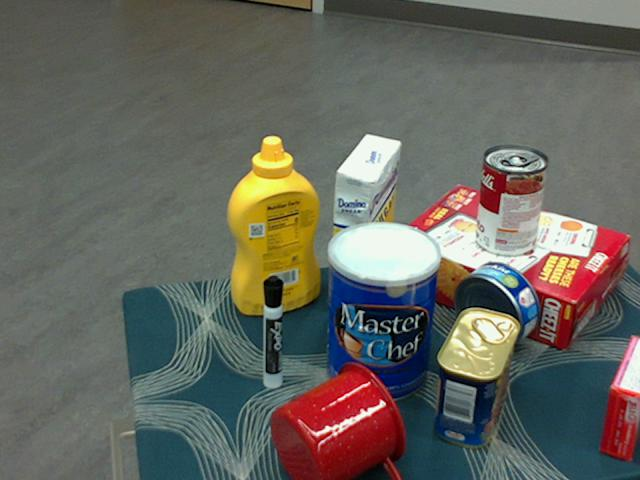cracker_box: (388, 187, 625, 347)
gelatin_box: (598, 336, 639, 460)
large_marker: (260, 274, 281, 390)
master_chef_can: (326, 222, 442, 404)
mug: (270, 362, 407, 479)
mustard_bottle: (226, 136, 320, 315)
potted_meat_can: (435, 308, 520, 448)
sugar_box: (327, 135, 401, 323)
tomato_soup_can: (475, 146, 548, 258)
tuna_fish_can: (454, 261, 541, 348)
